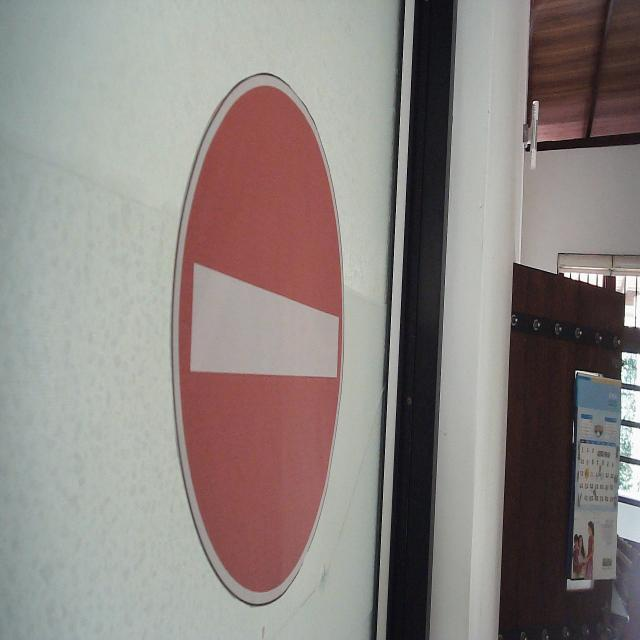no_entry: (167, 67, 346, 610)
